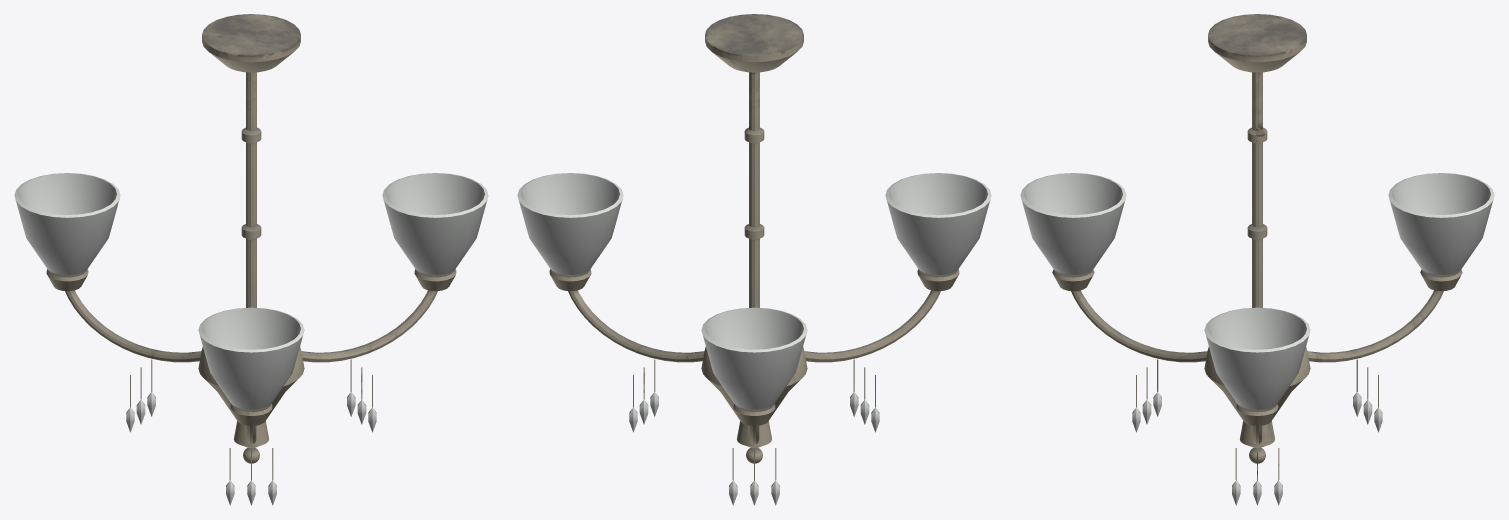
Rendered from SM_Chandelier_3Arm.fbx.
The picture shows the model from 3 angles, left to right: view 1: azimuth 30°, elevation 25°; view 2: azimuth 150°, elevation 25°; view 3: azimuth 270°, elevation 25°; orthographic projection.
Visible parts, largest first — view 1: SM_Chandelier_3Arm; view 2: SM_Chandelier_3Arm; view 3: SM_Chandelier_3Arm.
Boxes of the visible parts, x1,y1,x2,y2 form: SM_Chandelier_3Arm: (14,14,488,505); SM_Chandelier_3Arm: (517,14,991,505); SM_Chandelier_3Arm: (1020,14,1494,505).
Size of the model in its own units: 0.6 by 0.667 by 0.6696.
2 materials, 1 textured.
